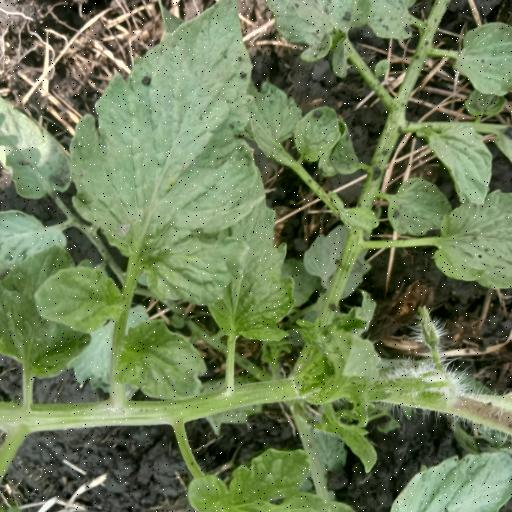Tomato_Mildiou: (68, 0, 265, 287)
